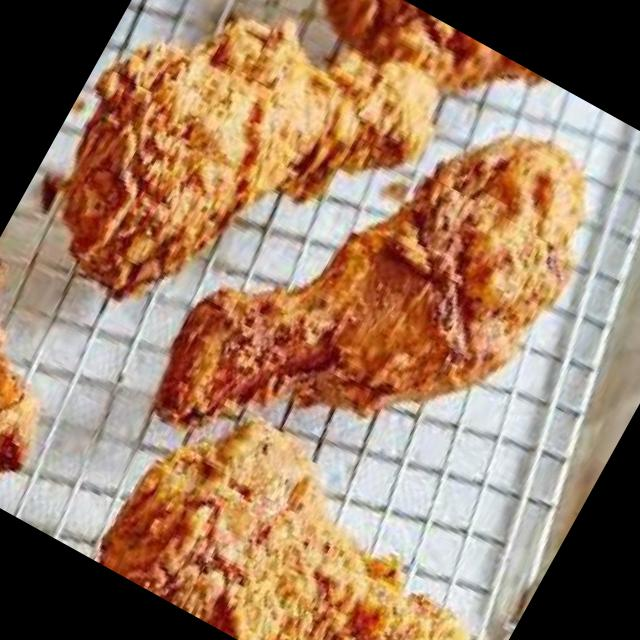Fried Chicken: (151, 136, 588, 431), (58, 21, 443, 300), (97, 419, 471, 640)
